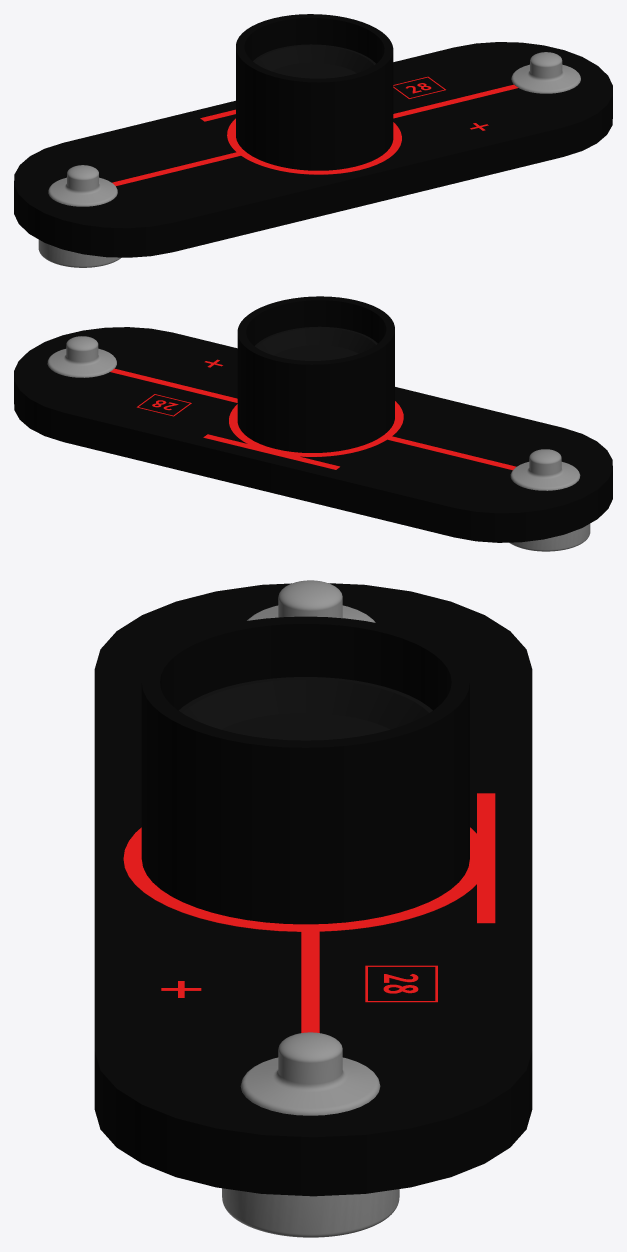
File: Microphone.FBX
3 renders of one model, top to bottom at view 1: azimuth 30°, elevation 25°; view 2: azimuth 150°, elevation 25°; view 3: azimuth 270°, elevation 25°, orthographic. The views are drawn at different scales.
Parts seen in each view (by area): view 1: Base, Obj (×2), ButtonUp (×2), Text, ButtonDown; view 2: Base, Obj (×2), ButtonUp (×2), Text, ButtonDown; view 3: Base, Obj (×2), ButtonUp (×2), Text, ButtonDown.
Boxes of the visible parts, x1=… form: Base: x1=14, y1=42, x2=612, y2=257; Obj (×2): x1=236, y1=14, x2=393, y2=170; ButtonUp (×2): x1=48, y1=52, x2=580, y2=206; Text: x1=112, y1=84, x2=518, y2=185; ButtonDown: x1=38, y1=240, x2=121, y2=267; Base: x1=14, y1=327, x2=612, y2=542; Obj (×2): x1=237, y1=296, x2=394, y2=452; ButtonUp (×2): x1=47, y1=336, x2=580, y2=490; Text: x1=110, y1=368, x2=516, y2=470; ButtonDown: x1=509, y1=523, x2=590, y2=551; Base: x1=94, y1=583, x2=532, y2=1196; Obj (×2): x1=141, y1=616, x2=469, y2=924; ButtonUp (×2): x1=240, y1=580, x2=380, y2=1115; Text: x1=123, y1=793, x2=495, y2=1032; ButtonDown: x1=222, y1=1188, x2=399, y2=1237.
Size of the model in its own units: 97.79 by 24.03 by 32.6.
